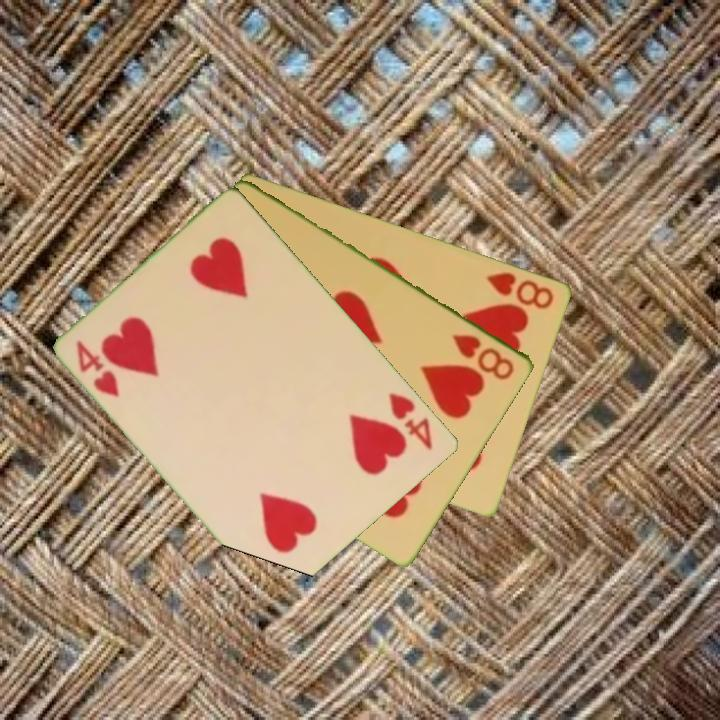4h: (385, 388, 437, 453), (73, 336, 123, 400)
8h: (449, 330, 518, 383), (483, 268, 558, 312)
